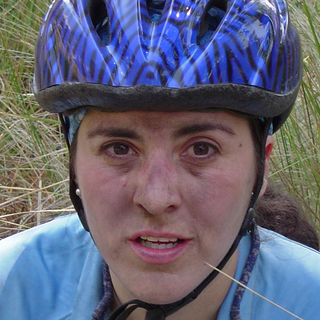eye: (93, 139, 143, 165), (174, 138, 225, 163)
